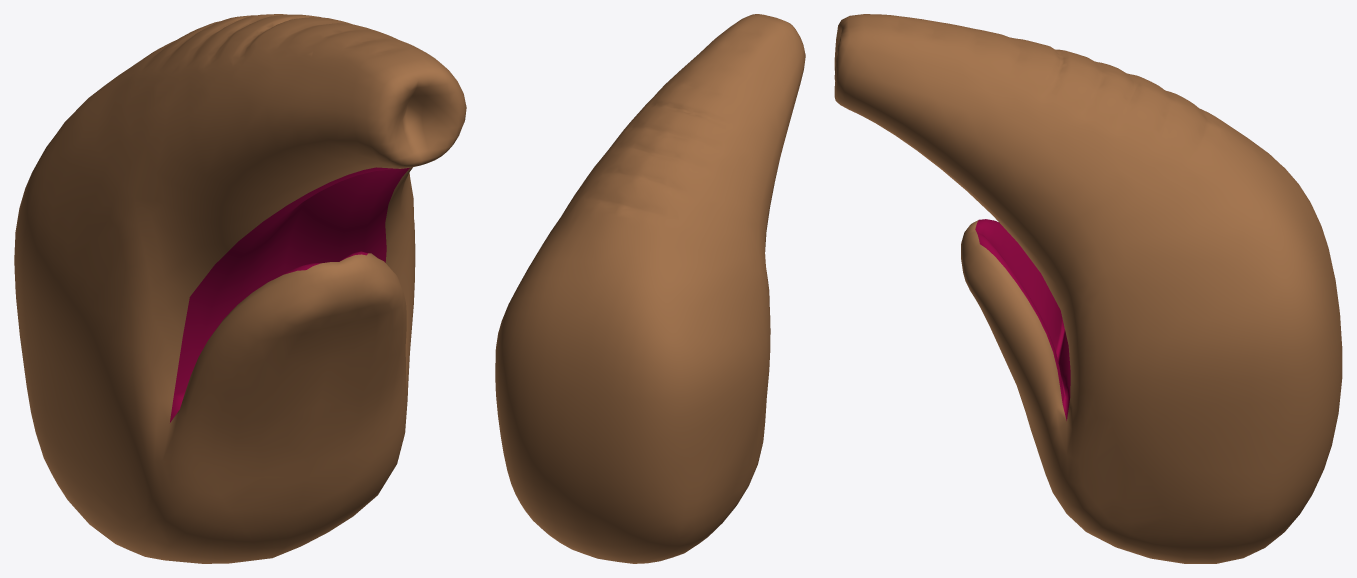
The model's file is Trunk - Xotik.fbx.
3 renders of one model, left to right at view 1: azimuth 30°, elevation 25°; view 2: azimuth 150°, elevation 25°; view 3: azimuth 270°, elevation 25°, orthographic. The views are drawn at different scales.
Parts seen in each view (by area): view 1: Trunk - Xotik; view 2: Trunk - Xotik; view 3: Trunk - Xotik.
Part boxes in pixels (x1=…): Trunk - Xotik: x1=14, y1=14, x2=466, y2=563; Trunk - Xotik: x1=495, y1=14, x2=805, y2=563; Trunk - Xotik: x1=834, y1=14, x2=1342, y2=563.
Size of the model in its own units: 47.88 by 90.58 by 79.69.
